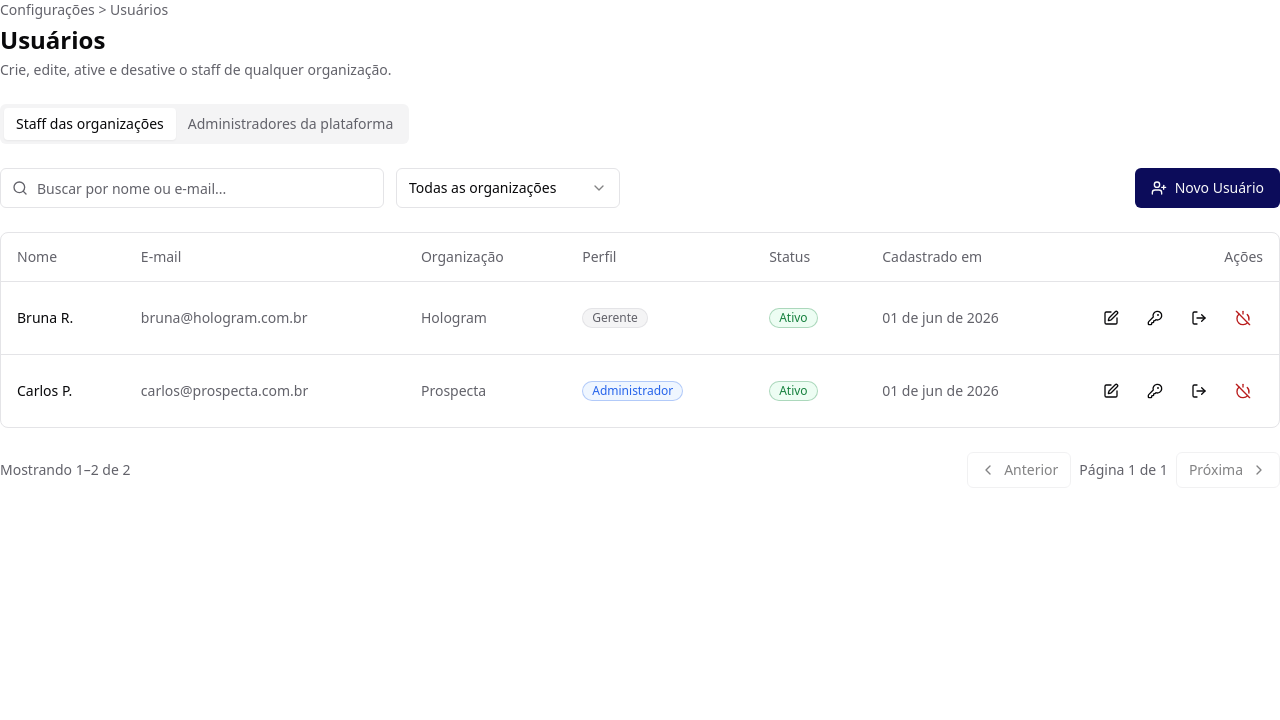
Scenario: Transferir de organização (86e3bvbfx) — só a plataforma › a plataforma vê a ação no editar, com a organização atual dita
What coordinates should you click on to do the following:
click the button named "Editar Bruna R."
I would click on:
 (1111, 318)
Its box is [1091,298,1131,338].
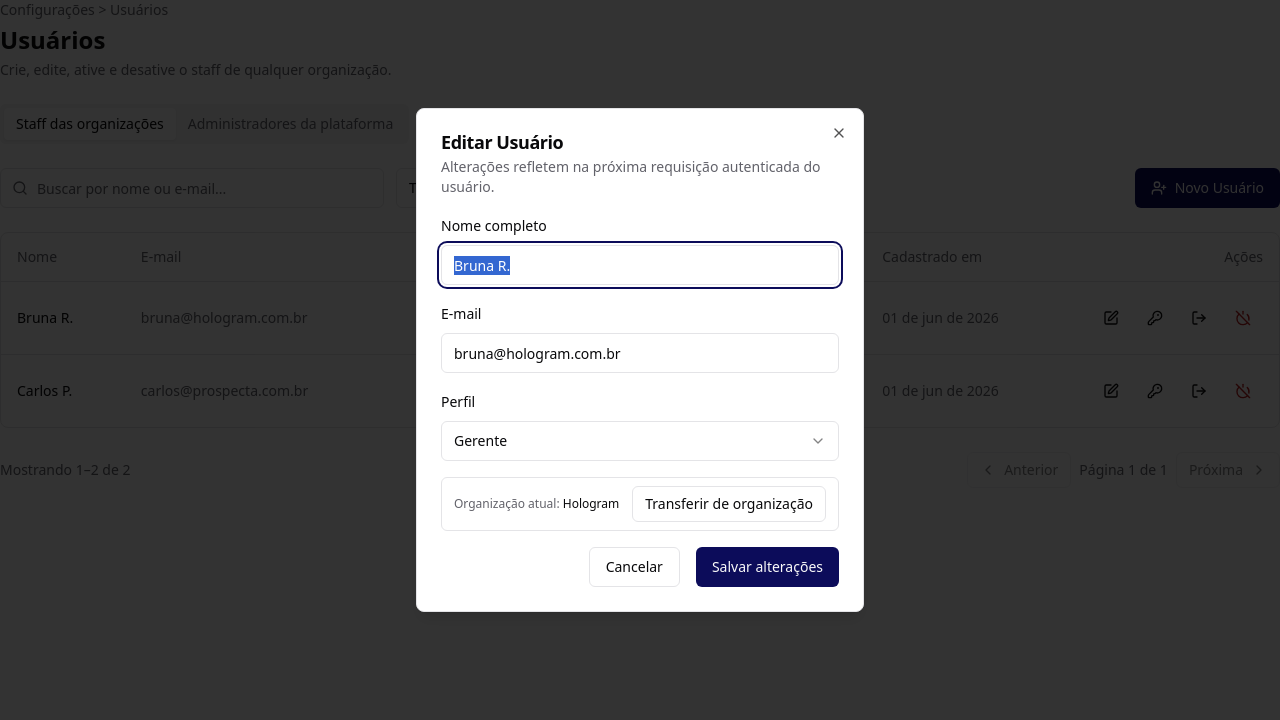
Check: the text "Hologram" is shown, box [563,495,619,512]
Check: the button "Transferir de organização" is shown, box [632,486,826,522]
